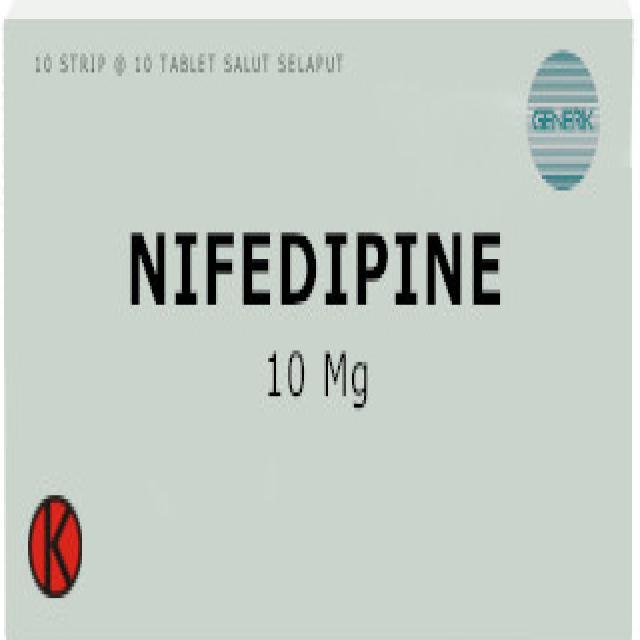drug-name: (128, 214, 509, 318)
